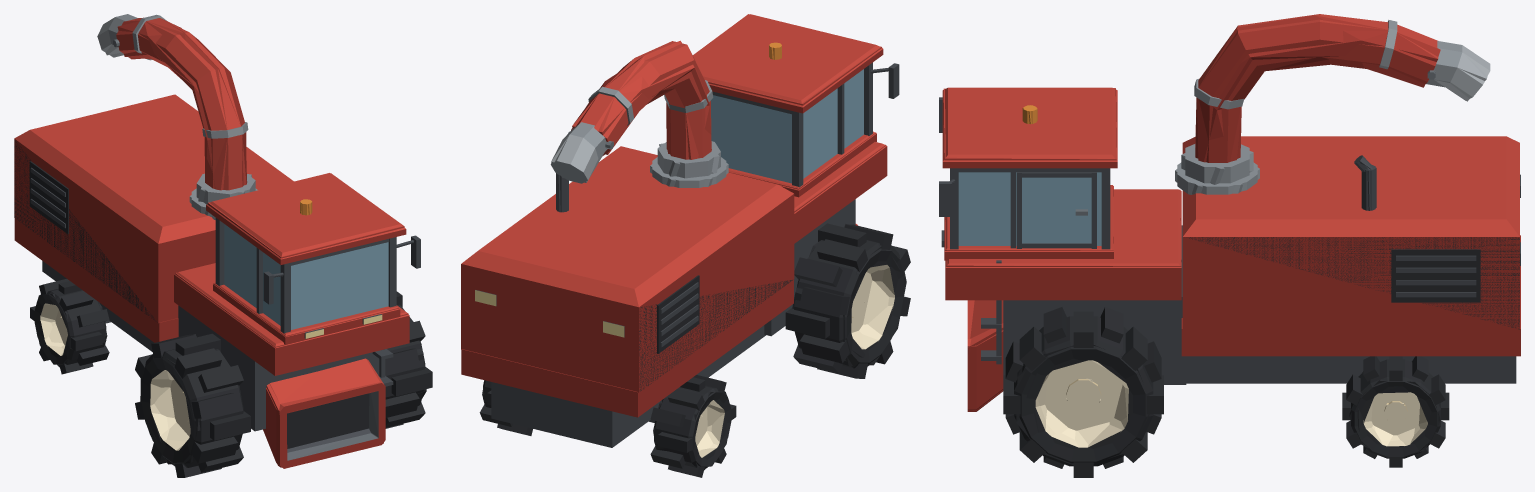
Rendered from FMS_Mach_ForageHarvester.fbx.
3 renders of one model, left to right at view 1: azimuth 30°, elevation 25°; view 2: azimuth 150°, elevation 25°; view 3: azimuth 270°, elevation 25°, orthographic. The views are drawn at different scales.
Parts seen in each view (by area): view 1: Body, Body_Low1, Wheel_FR, Spout, Feeder_Low1, Wheel_RR, Wheel_FR_Low1, Feeder, Spout_Low1, Wheel_FL, Wheel_RR_Low1, Wheel_FL_Low1 (+1 smaller); view 2: Body, Body_Low1, Wheel_FR, Spout, Wheel_RR, Wheel_FR_Low1, Spout_Low1, Wheel_RR_Low1, Spout_Tip, Spout_Tip_Low1, Wheel_RL; view 3: Body, Body_Low1, Wheel_FL, Spout, Wheel_RL, Spout_Low1, Door_L, Wheel_FL_Low1, Wheel_RL_Low1, Feeder, Spout_Tip, Feeder_Low1 (+1 smaller).
Boxes of the visible parts, left/top/right/bottom form: Body: left=14, top=94, right=420, bottom=430; Body_Low1: left=14, top=94, right=408, bottom=431; Wheel_FR: left=135, top=333, right=250, bottom=477; Spout: left=116, top=14, right=255, bottom=204; Feeder_Low1: left=266, top=358, right=383, bottom=467; Wheel_RR: left=30, top=279, right=109, bottom=374; Wheel_FR_Low1: left=135, top=335, right=243, bottom=477; Feeder: left=263, top=371, right=385, bottom=468; Spout_Low1: left=117, top=18, right=251, bottom=201; Wheel_FL: left=385, top=291, right=432, bottom=428; Wheel_RR_Low1: left=38, top=279, right=108, bottom=374; Wheel_FL_Low1: left=385, top=309, right=426, bottom=428; Body: left=461, top=14, right=899, bottom=447; Body_Low1: left=461, top=14, right=886, bottom=447; Wheel_FR: left=785, top=223, right=910, bottom=378; Spout: left=571, top=41, right=720, bottom=178; Wheel_RR: left=650, top=375, right=736, bottom=477; Wheel_FR_Low1: left=792, top=224, right=909, bottom=378; Spout_Low1: left=572, top=40, right=719, bottom=176; Wheel_RR_Low1: left=651, top=375, right=736, bottom=477; Spout_Tip: left=550, top=122, right=613, bottom=183; Spout_Tip_Low1: left=551, top=122, right=613, bottom=182; Wheel_RL: left=480, top=380, right=532, bottom=435; Body: left=939, top=87, right=1520, bottom=384; Body_Low1: left=943, top=88, right=1520, bottom=384; Wheel_FL: left=1003, top=307, right=1163, bottom=477; Spout: left=1185, top=14, right=1440, bottom=183; Wheel_RL: left=1342, top=356, right=1449, bottom=467; Spout_Low1: left=1181, top=15, right=1438, bottom=184; Door_L: left=1016, top=172, right=1096, bottom=248; Wheel_FL_Low1: left=1005, top=311, right=1161, bottom=468; Wheel_RL_Low1: left=1342, top=356, right=1445, bottom=467; Feeder: left=967, top=300, right=1003, bottom=411; Spout_Tip: left=1426, top=41, right=1490, bottom=100; Feeder_Low1: left=967, top=300, right=1003, bottom=411.
Bounding box in the file's own units: 3.5 × 4.91 × 6.52.
